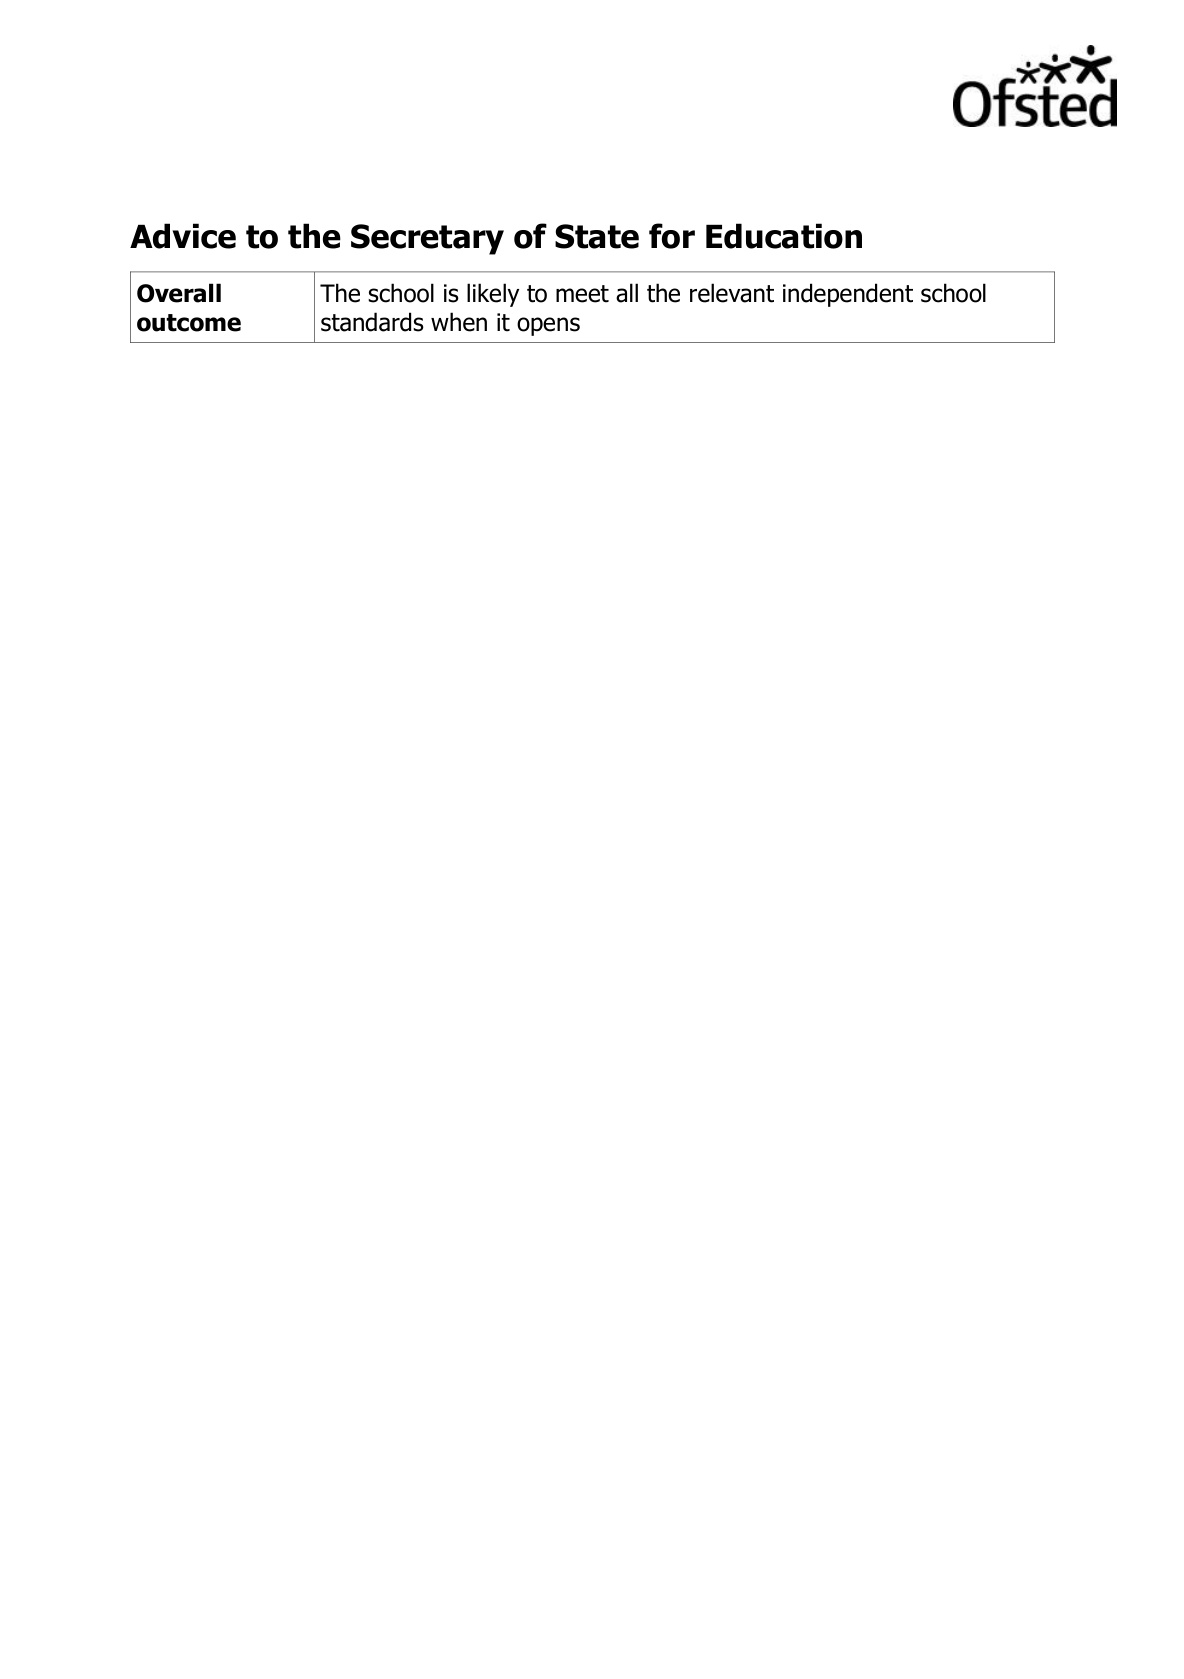full_lined: (129, 272, 1055, 343)
